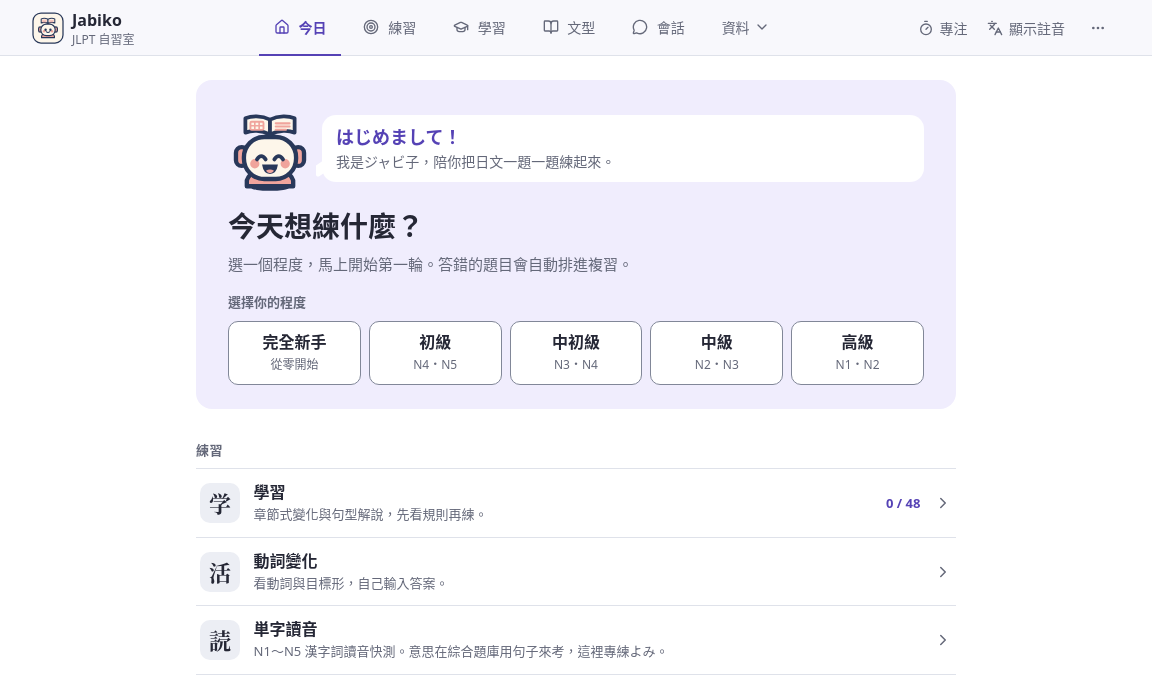
App Focus Mode (#771) › keeps Focus reachable from the mobile 更多 menu (icon-only header)
Step 1. Click the button named "更多" → (1098, 28), box [1076,6,1120,50]
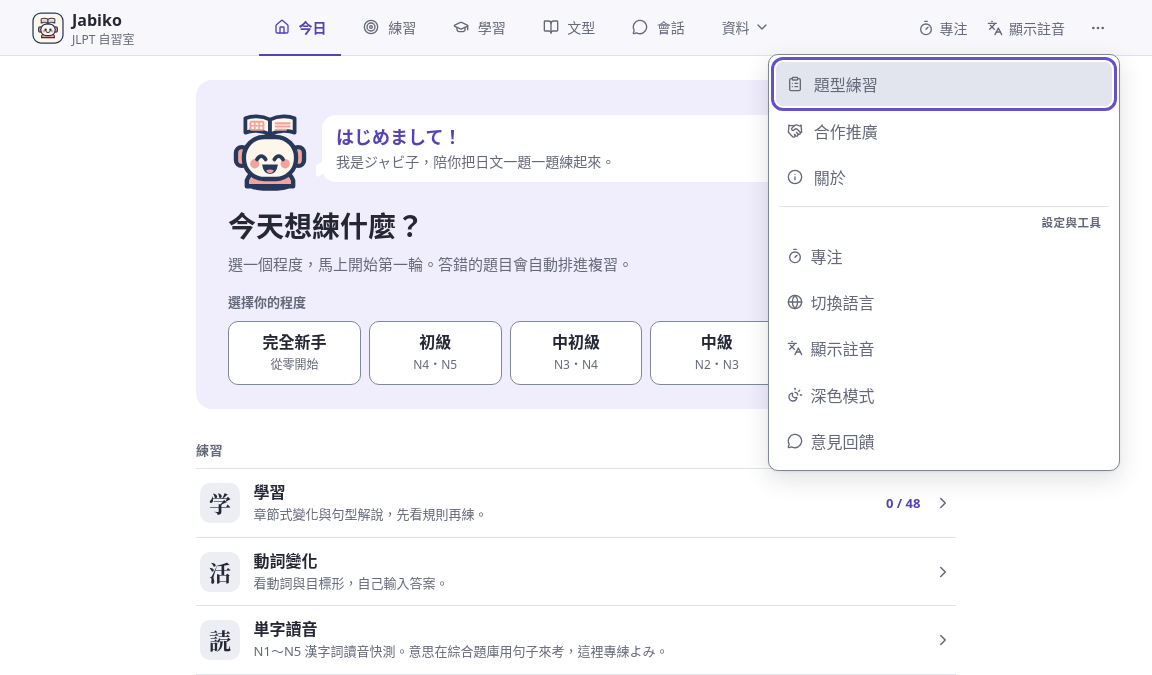
Step 2. Click the menu item "專注" → (827, 257), box [776,234,1112,278]
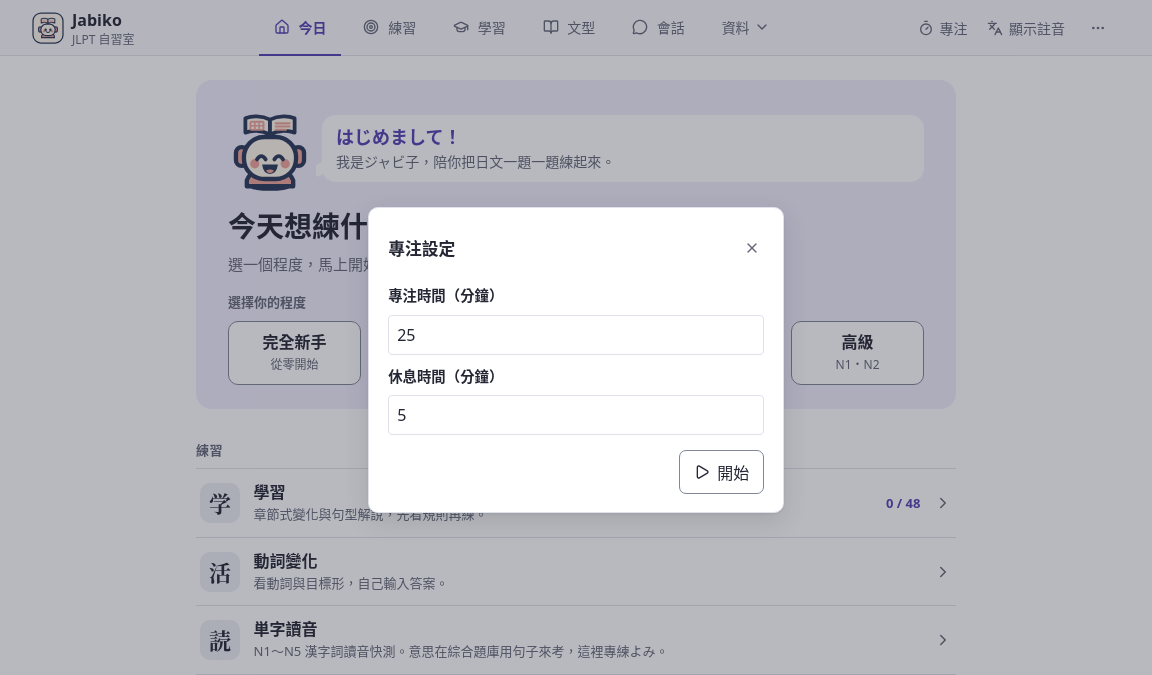
expect the dialog "專注設定" is shown: met, box [368,207,784,513]
